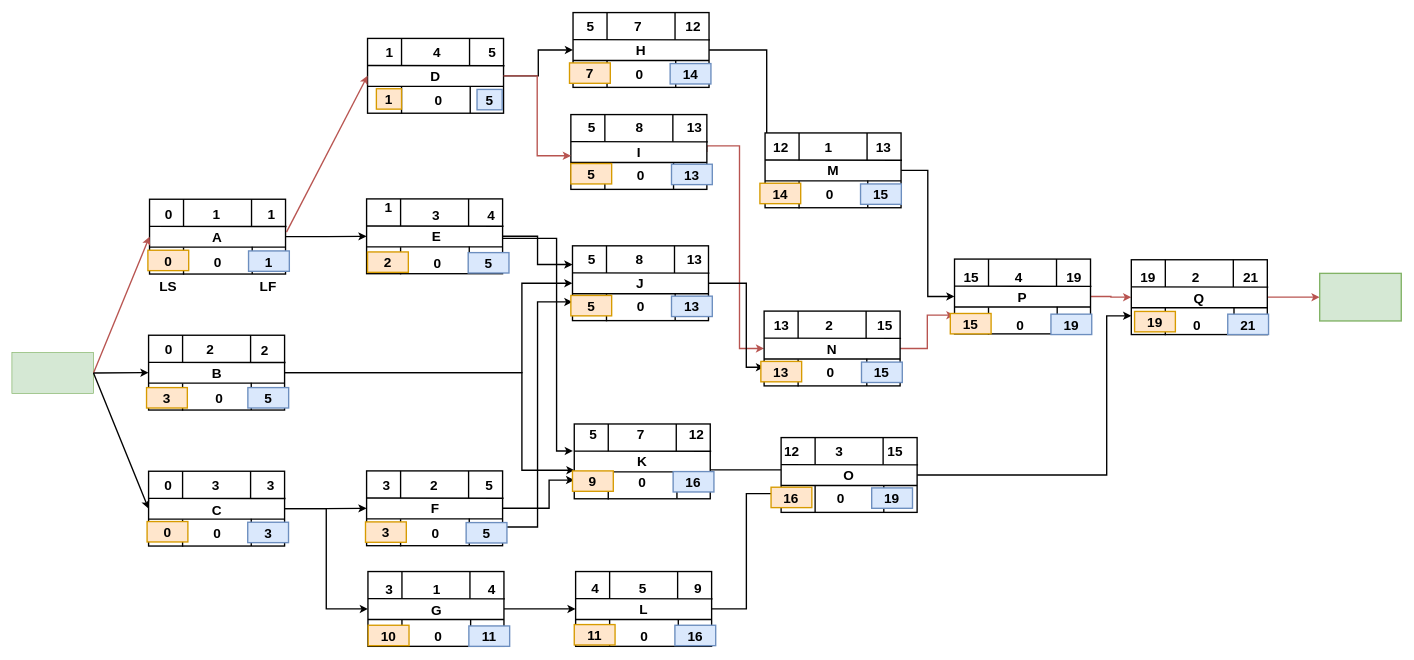
Some shapes in this 1414 by 660 pixel diagram are drawn without their labels. Each missing label, with the centre of its shape:
FIN: [1360,296]
Inicio: [52,372]
